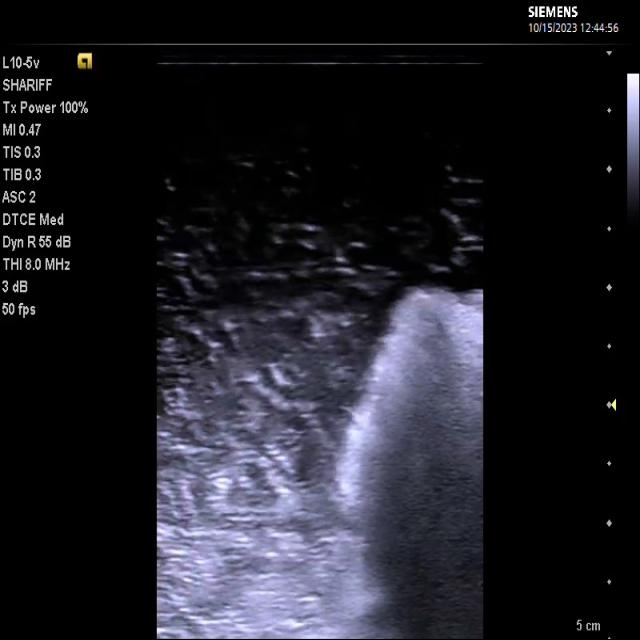tissue: (340, 293, 485, 640)
